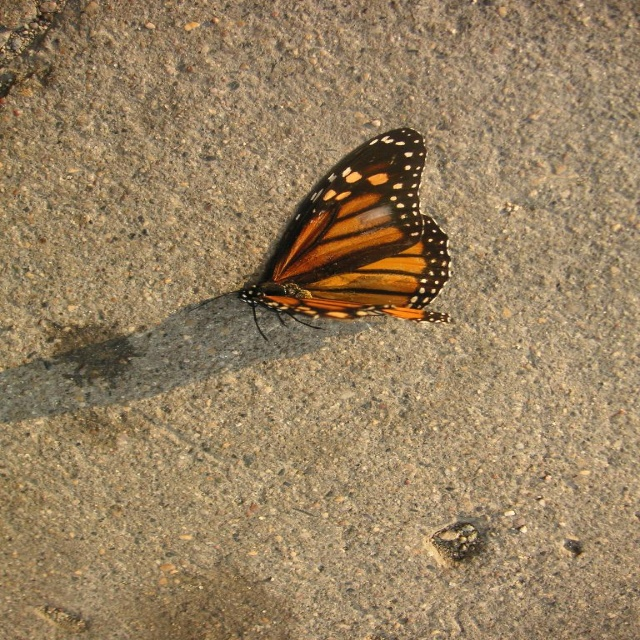Butterfly: (238, 127, 447, 340)
